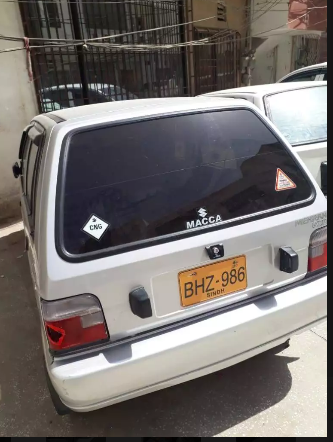license plate: (176, 263, 249, 302)
